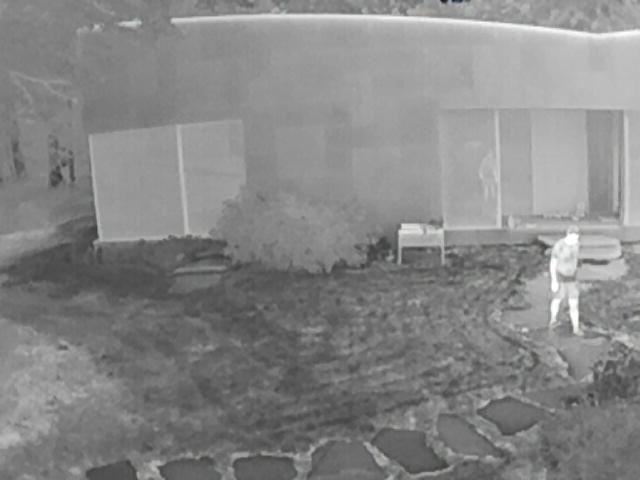person: (549, 227, 584, 331), (475, 147, 498, 200)
